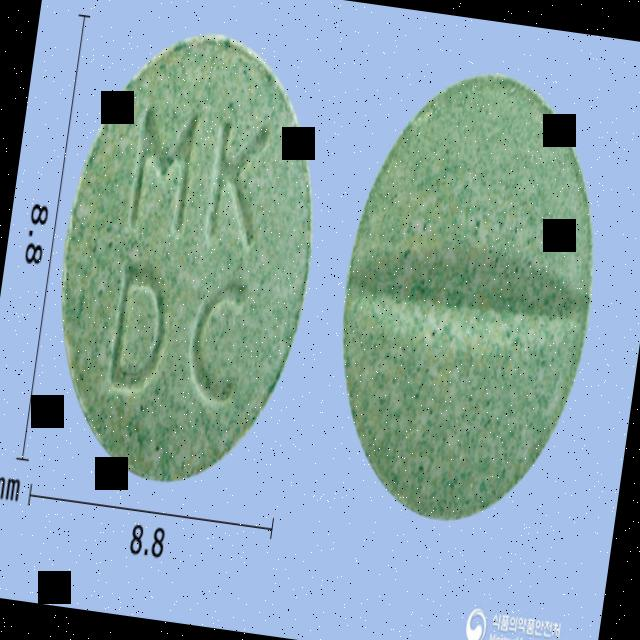Bydoxy: (32, 10, 344, 507)
